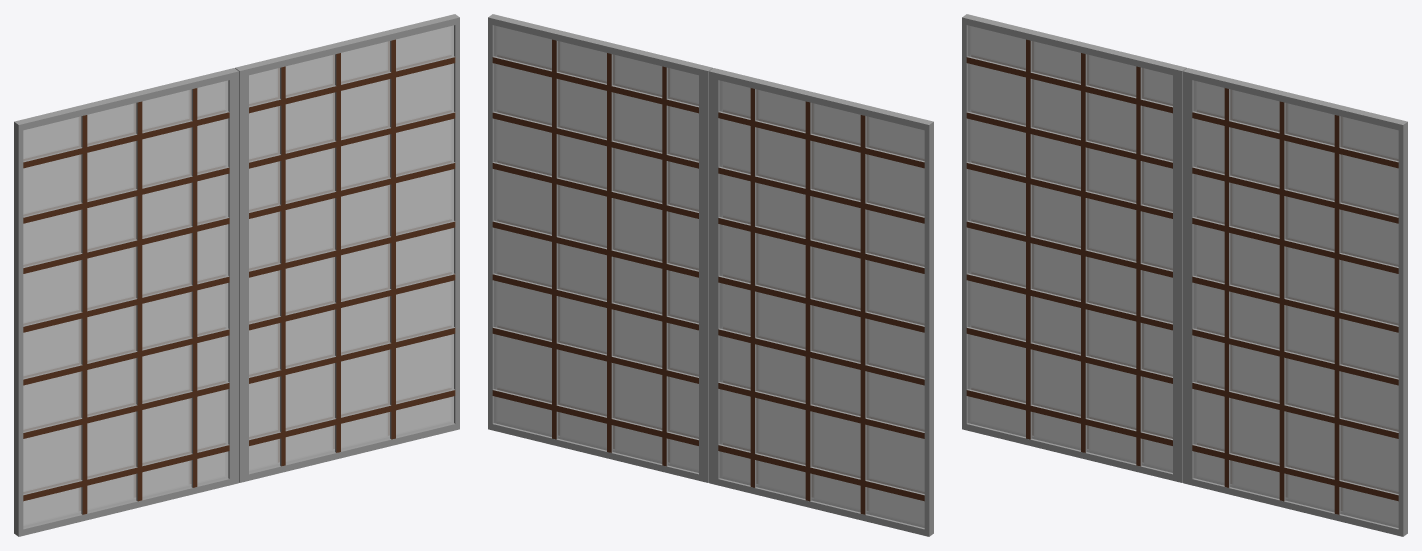
Rendered from doorjap.fbx.
3 renders of one model, left to right at view 1: azimuth 30°, elevation 25°; view 2: azimuth 150°, elevation 25°; view 3: azimuth 330°, elevation 25°, orthographic.
Visible parts, largest first — view 1: polySurface22; view 2: polySurface22; view 3: polySurface22.
Part boxes in pixels (x1,y1,x2,y2): polySurface22: (14, 14, 459, 536); polySurface22: (488, 14, 933, 536); polySurface22: (962, 14, 1407, 536).
Size of the model in its own units: 29.45 by 26.27 by 0.5469.
